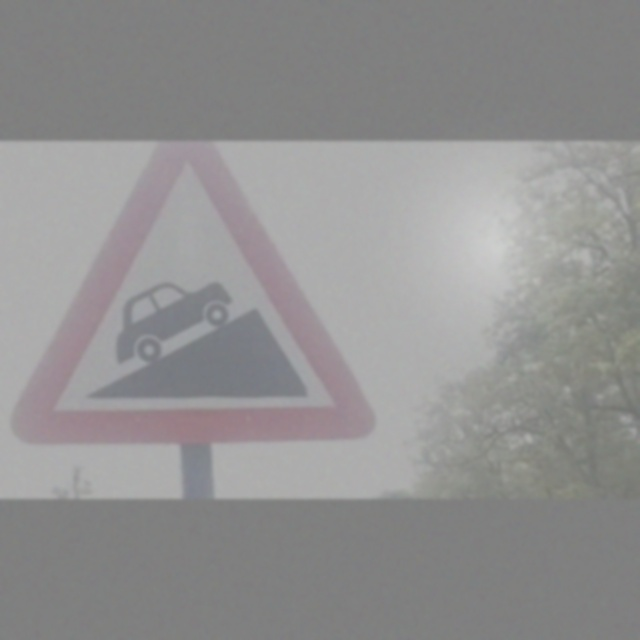Steep_Ascent: (47, 180, 352, 443)
